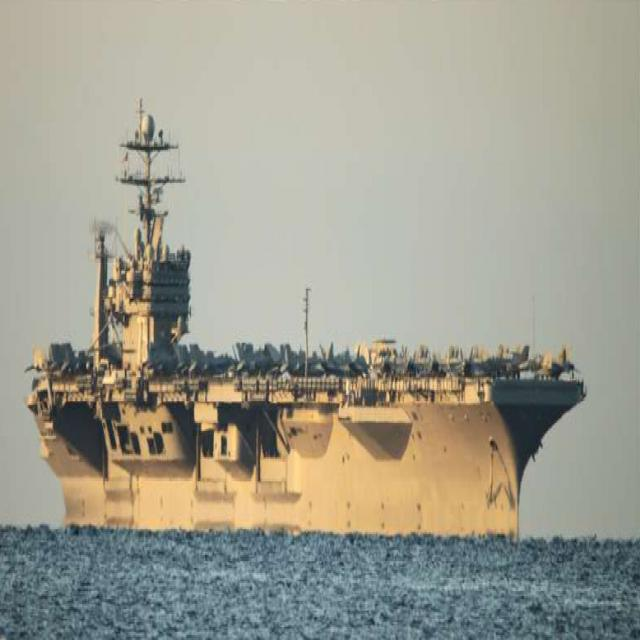Portanaves: (26, 74, 593, 540)
